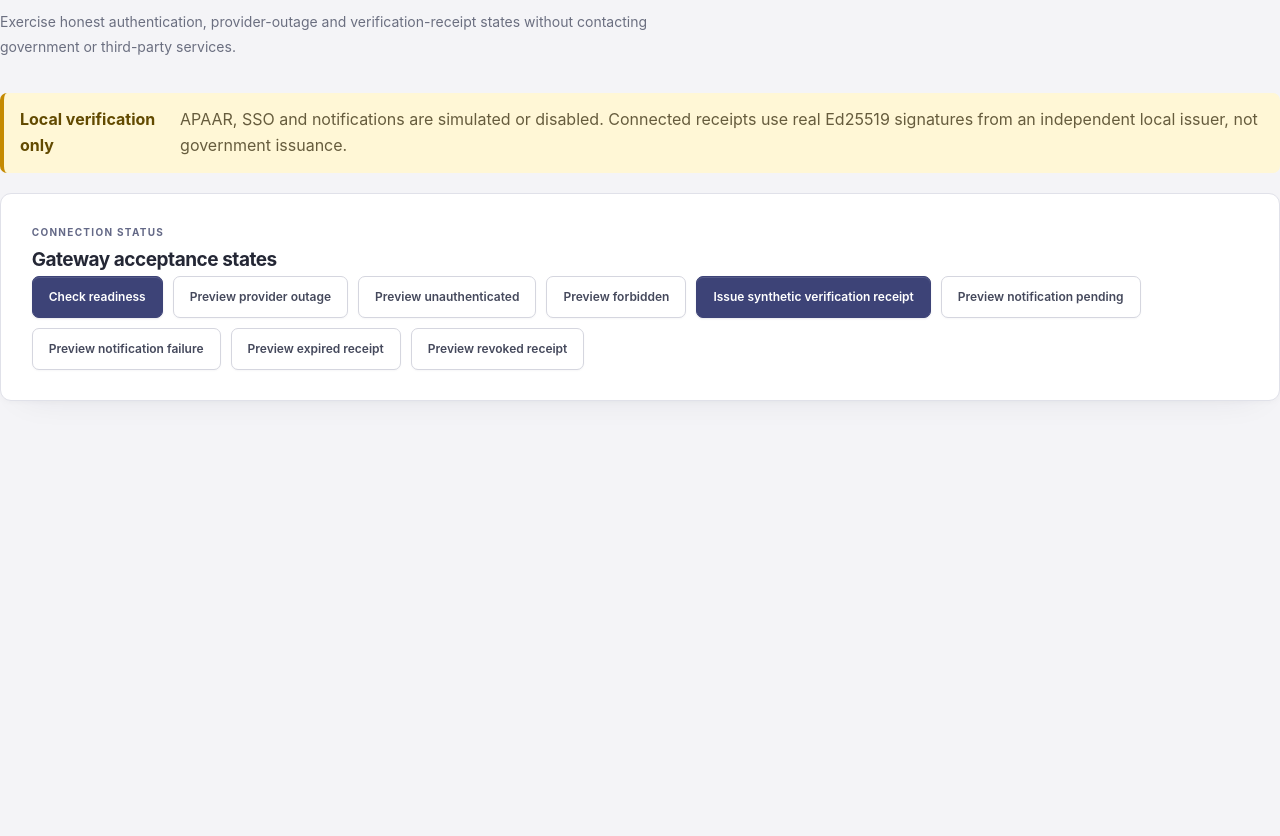
Test: IntegrationWorkspace › shows a minimal expiring synthetic receipt
Click the button "Issue synthetic verification receipt" at (814, 297), box [696,276,931,318]
(page scrolled)
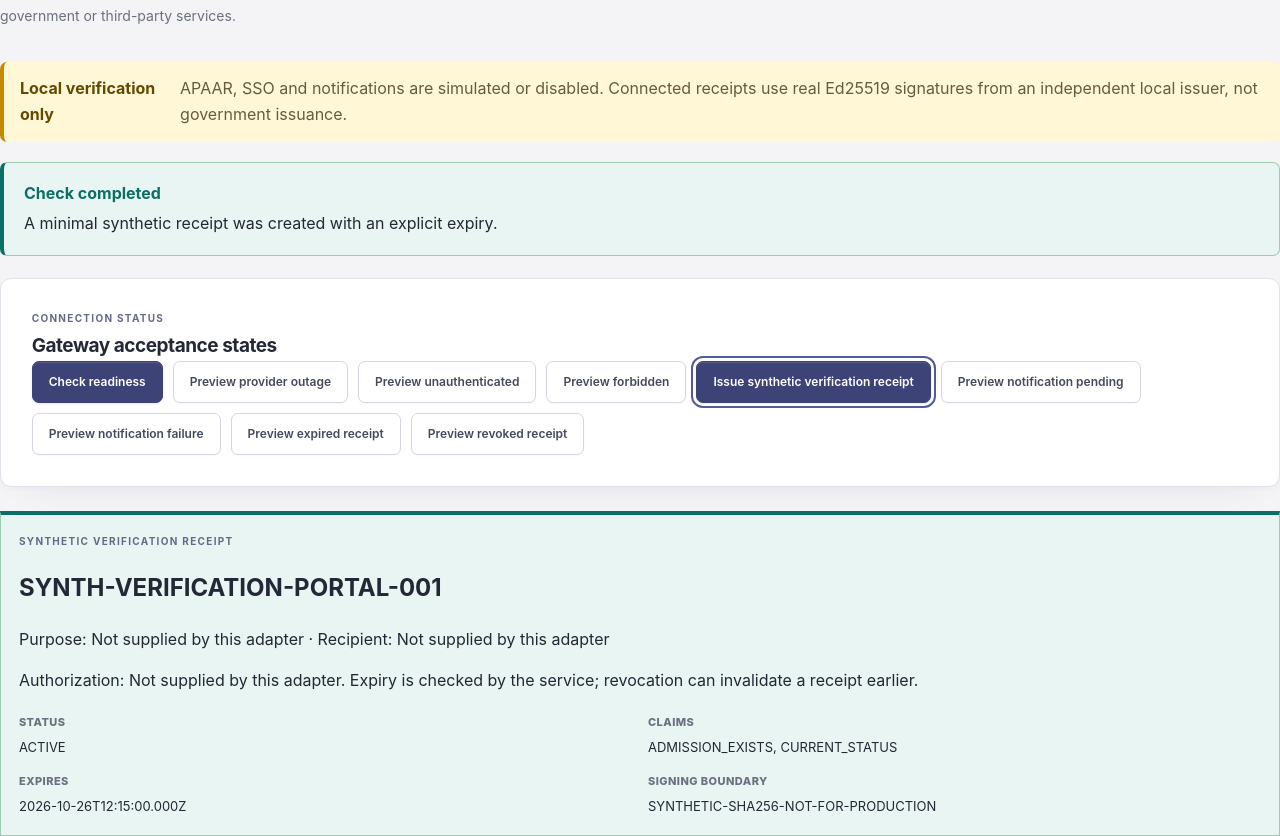
Check: the element "SYNTH-VERIFICATION-PORTAL-001" shows "ADMISSION_EXISTS, CURRENT_STATUS", box [648,739,897,755]
Check: the element "SYNTH-VERIFICATION-PORTAL-001" shows "SYNTHETIC-SHA256-NOT-FOR-PRODUCTION", box [648,798,936,814]
Check: the element "SYNTH-VERIFICATION-PORTAL-001" shows "ACTIVE", box [19,739,66,755]
